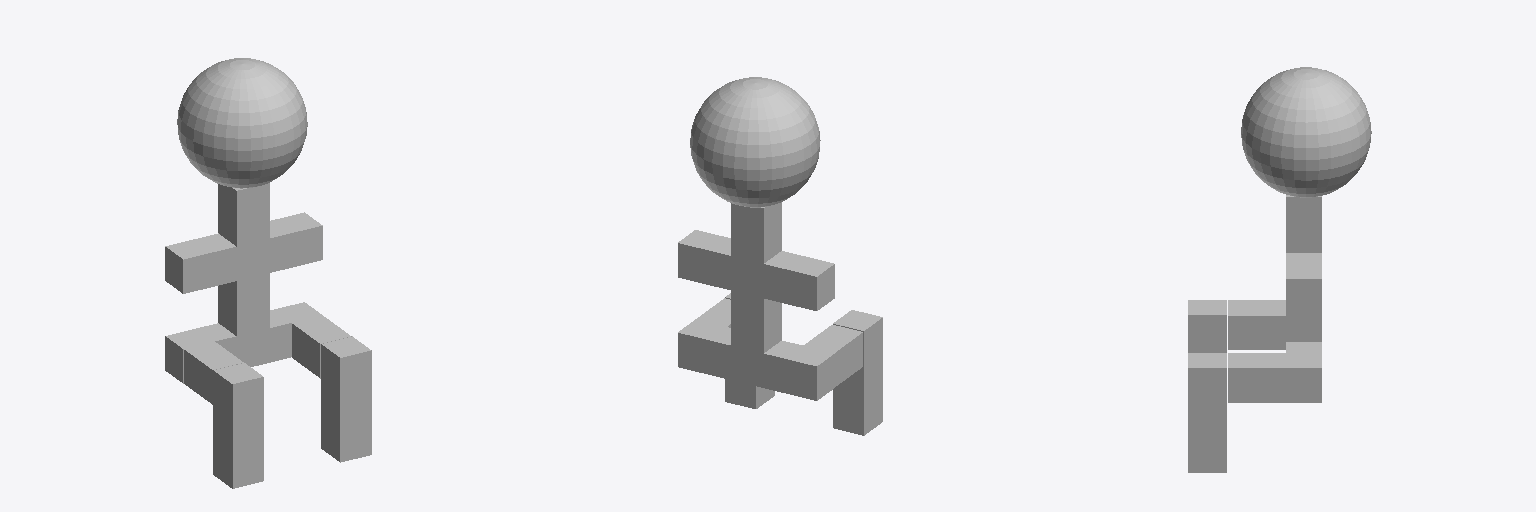
File: character.obj
3 views of the same model, side by side, from view 1: azimuth 30°, elevation 25°; view 2: azimuth 150°, elevation 25°; view 3: azimuth 270°, elevation 25° (orthographic).
Parts seen in each view (by area): view 1: Sphere, Cube.001, Cube, Cube.005, Cube.006, Cube.002, Cube.004, Cube.003; view 2: Sphere, Cube.002, Cube.001, Cube, Cube.005, Cube.003, Cube.006, Cube.004; view 3: Sphere, Cube.006, Cube, Cube.004, Cube.003, Cube.002, Cube.001, Cube.005.
Part boxes in pixels (x1,y1,x2,y2): Sphere: (177,58,307,188); Cube.001: (165,212,322,293); Cube: (218,183,269,336); Cube.005: (213,363,263,488); Cube.006: (321,336,371,462); Cube.002: (165,302,321,383); Cube.004: (291,315,351,378); Cube.003: (184,341,243,404); Sphere: (690,77,820,207); Cube.002: (678,320,834,400); Cube.001: (678,230,834,310); Cube: (731,202,781,353); Cube.005: (833,310,882,435); Cube.003: (803,325,862,386); Cube.006: (725,293,774,408); Cube.004: (695,298,730,327); Sphere: (1241,67,1371,197); Cube.006: (1188,353,1226,472); Cube: (1286,195,1321,341); Cube.004: (1228,353,1286,402); Cube.003: (1228,300,1285,349); Cube.002: (1286,342,1321,402); Cube.001: (1286,253,1321,312); Cube.005: (1188,300,1226,352).
Bounding box in the file's own units: 1.6 × 4 × 1.82.